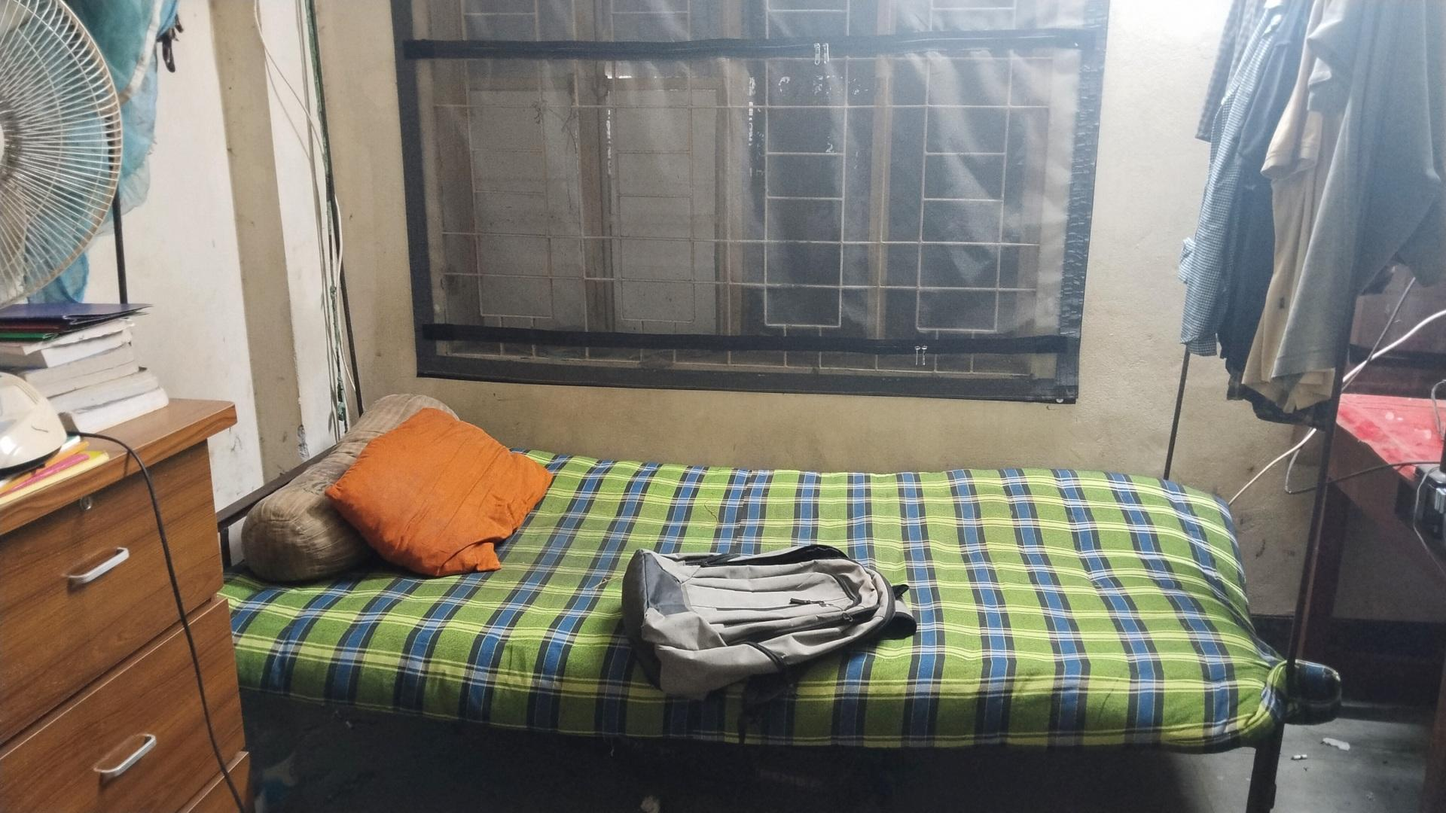Bag: (625, 533, 911, 699)
Pillow: (332, 404, 549, 576)
